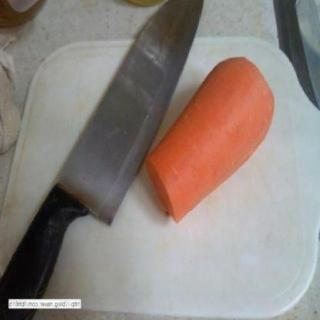carrot: (143, 50, 275, 226)
